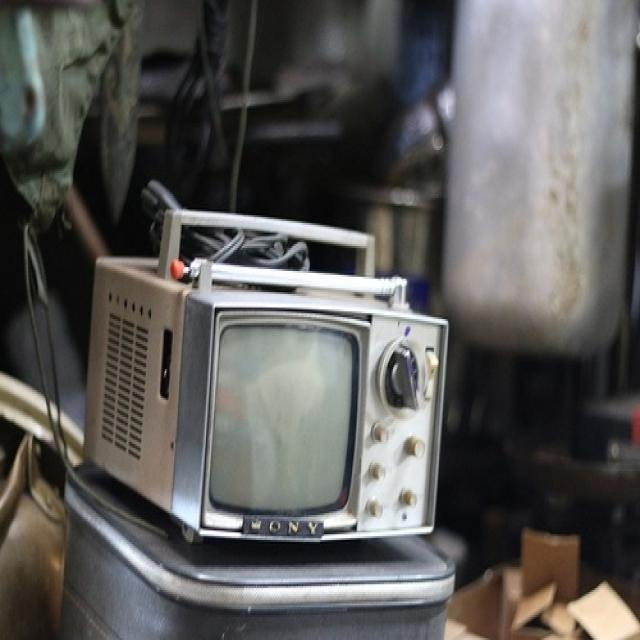E-waste: (54, 181, 479, 552)
